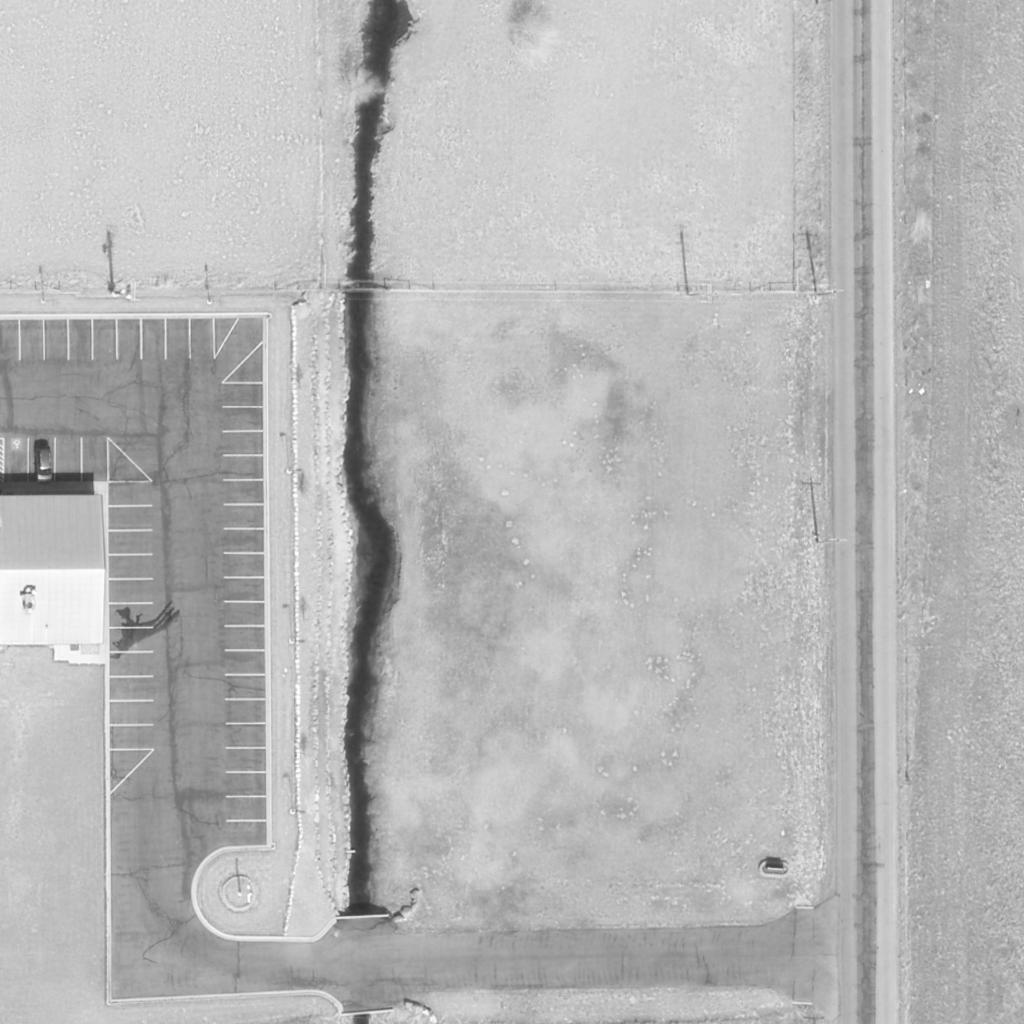vehicle: (36, 445, 52, 485)
